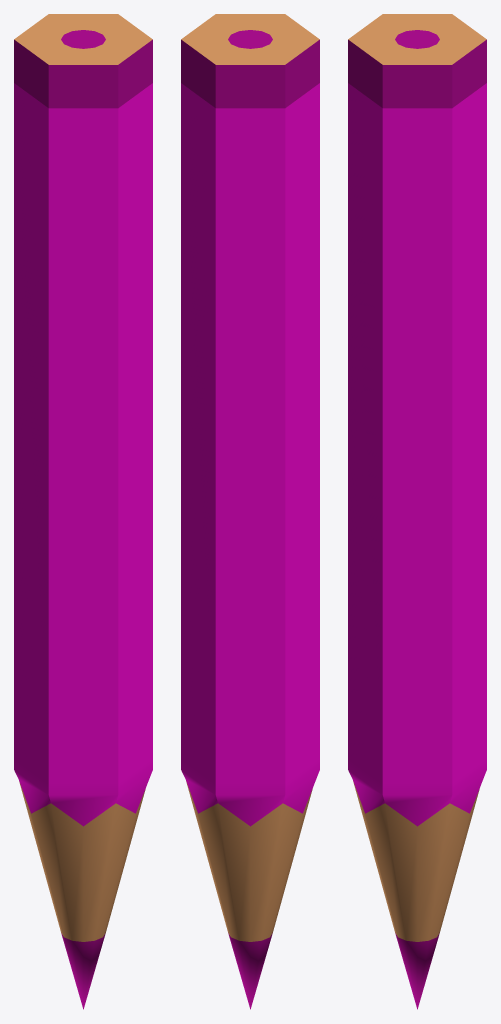
File: Pink Pencile.fbx
3 renders of one model, left to right at view 1: azimuth 90°, elevation 25°; view 2: azimuth 150°, elevation 25°; view 3: azimuth 330°, elevation 25°, orthographic.
Parts seen in each view (by area): view 1: Cylinder.002; view 2: Cylinder.002; view 3: Cylinder.002.
Part boxes in pixels (bbox=[...]): Cylinder.002: bbox=[14, 14, 152, 1009]; Cylinder.002: bbox=[181, 14, 319, 1009]; Cylinder.002: bbox=[348, 14, 486, 1009].
Size of the model in its own units: 174 by 1542 by 200.
